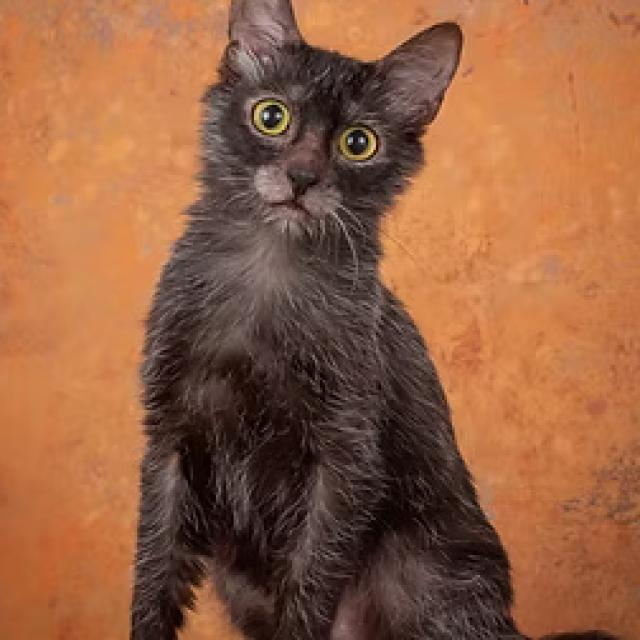Lykoi: (114, 0, 635, 640)
